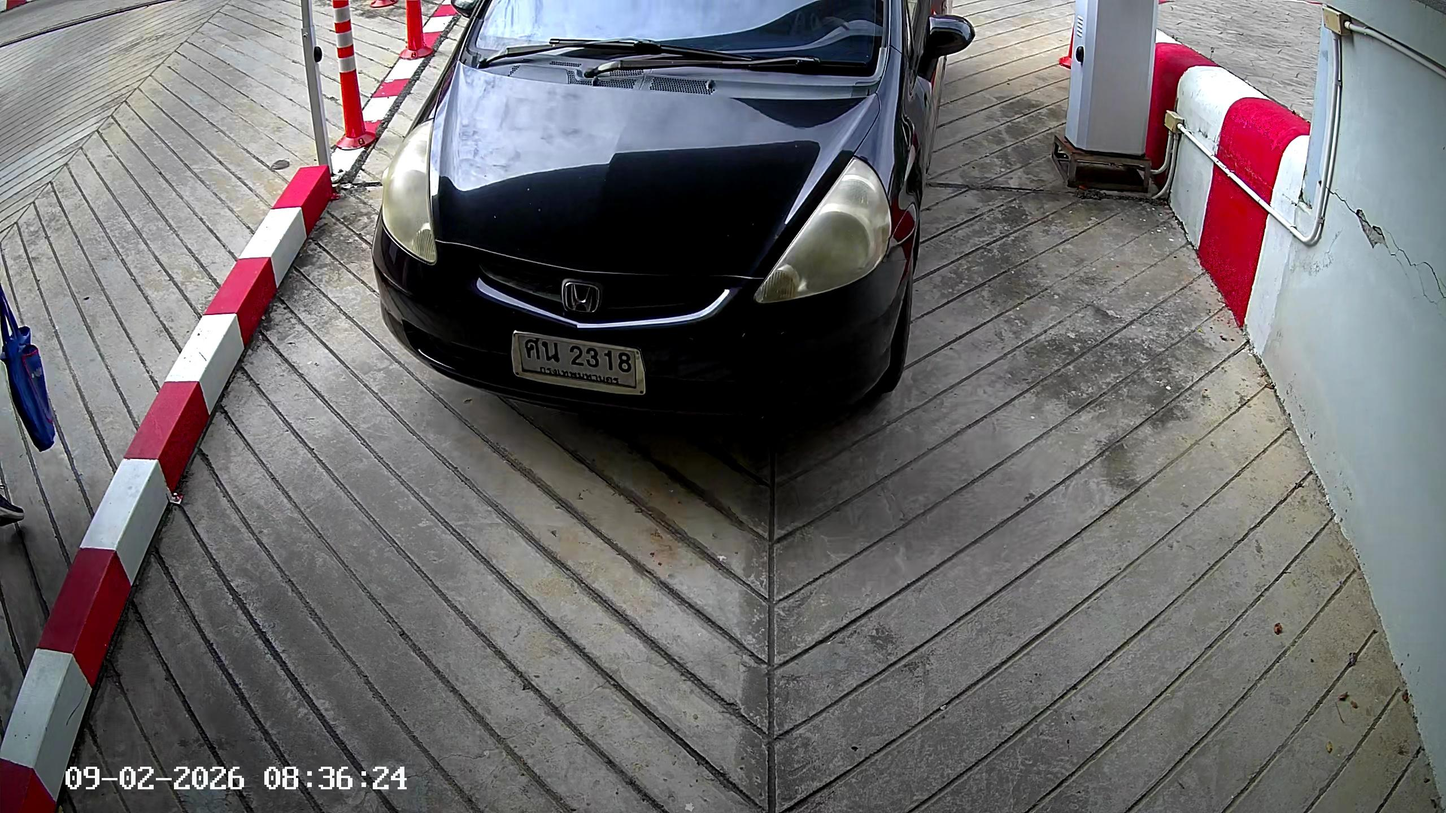car: (373, 3, 976, 426)
license-plate: (507, 323, 650, 402)
